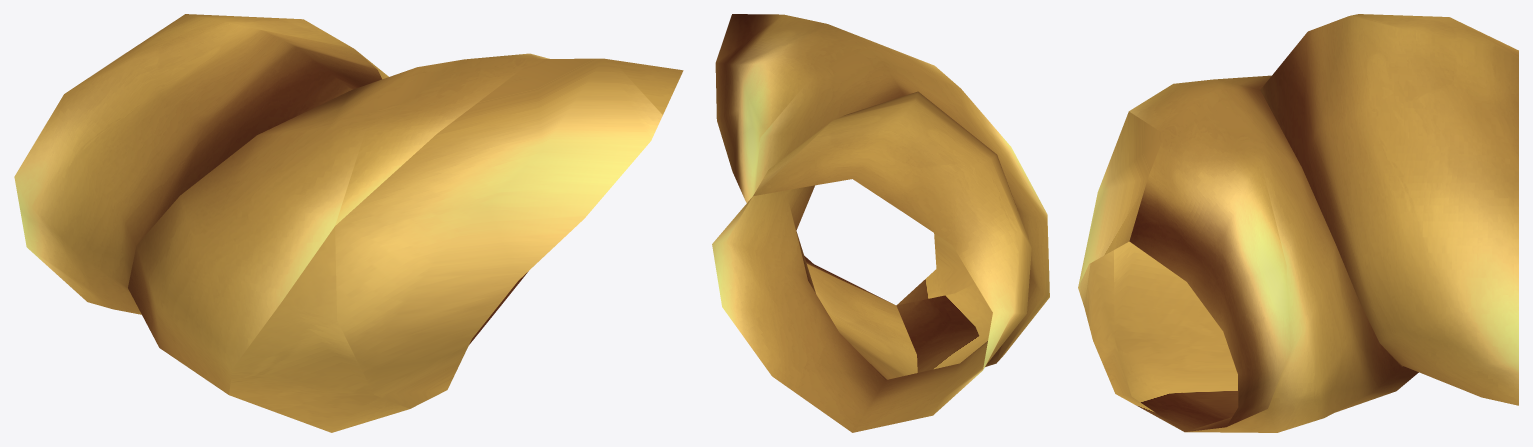
Rendered from Rope_End_01.glb.
The picture shows the model from 3 angles, left to right: view 1: azimuth 30°, elevation 25°; view 2: azimuth 150°, elevation 25°; view 3: azimuth 270°, elevation 25°; orthographic projection. The views are drawn at different scales.
Visible parts, largest first — view 1: Rope_End_01; view 2: Rope_End_01; view 3: Rope_End_01.
Part boxes in pixels (x1,y1,x2,y2): Rope_End_01: (14, 14, 683, 432); Rope_End_01: (712, 14, 1049, 432); Rope_End_01: (1078, 14, 1518, 432).
Bounding box in the file's own units: 0.2936 × 0.2019 × 0.2034.
Materials: 1 (1 with a texture image).
